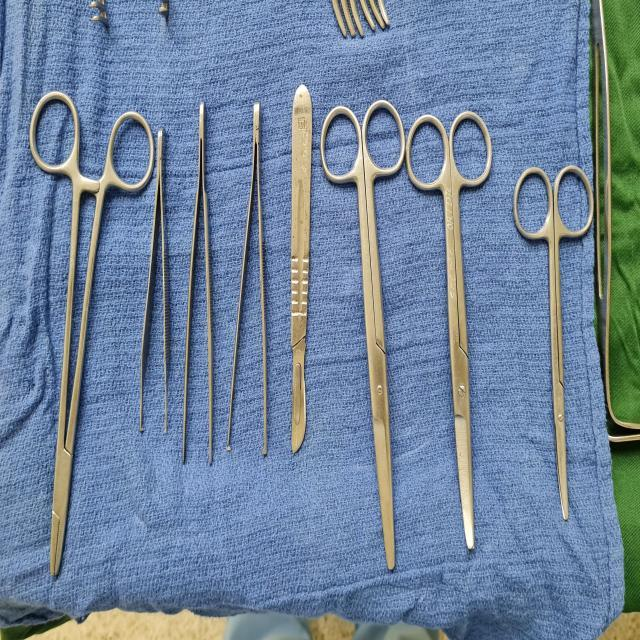Army_navy: (587, 0, 640, 437)
Forceps: (175, 87, 221, 476), (226, 92, 271, 466), (134, 121, 174, 442)
Hemostat: (339, 0, 357, 40), (331, 0, 348, 39), (348, 0, 364, 39), (368, 0, 386, 33), (360, 0, 376, 32), (378, 0, 392, 29)
Mayo_metz: (314, 94, 410, 575), (403, 104, 497, 557), (510, 157, 598, 528)
Scalpel: (288, 76, 318, 462)
Weitlaner: (86, 1, 176, 28)
